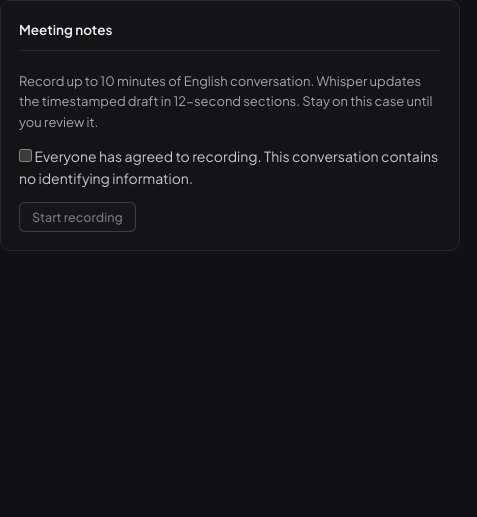
Test: keeps capturing after a timeout and requires checking the gap before using the draft
Later steps or results of the test are not shown.
Click the checkbox labelled "Everyone has agreed" at (26, 156), box left=19, top=149, right=32, bottom=162
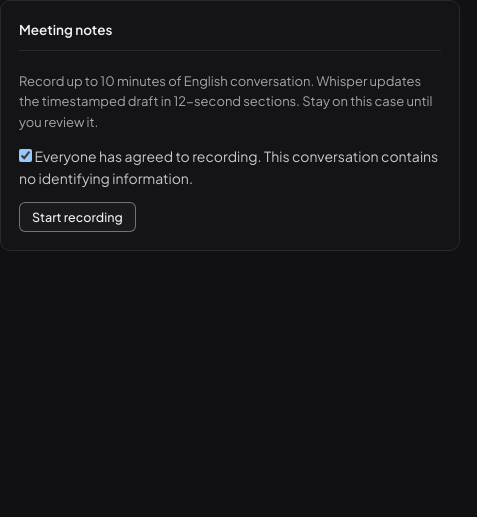
Click the button "Start recording" at (77, 217), box left=19, top=202, right=136, bottom=232
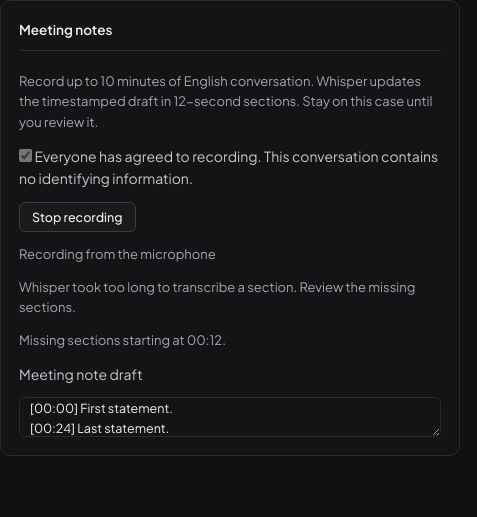
expect the text "Missing sections starting at 00:12." is shown: met, box left=19, top=332, right=226, bottom=348
expect the text "Recording from the microphone" is shown: met, box left=19, top=246, right=216, bottom=262
Click the button "Stop recording" at (77, 217), box left=19, top=202, right=136, bottom=232
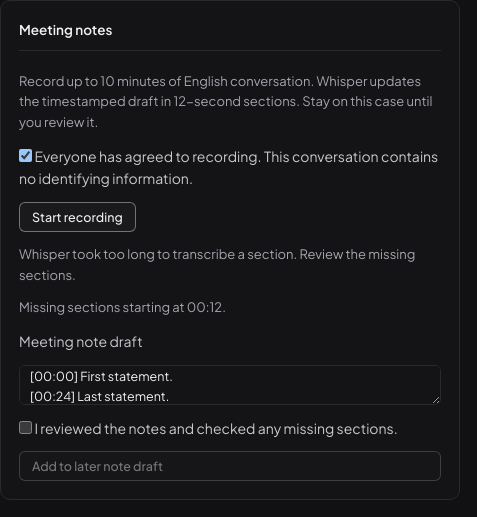
expect the button "Add to later note draft" is disabled: met, box left=19, top=451, right=441, bottom=481
